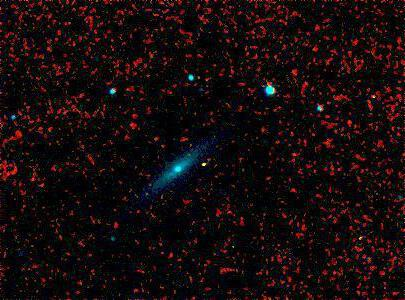star: (132, 178, 162, 208)
